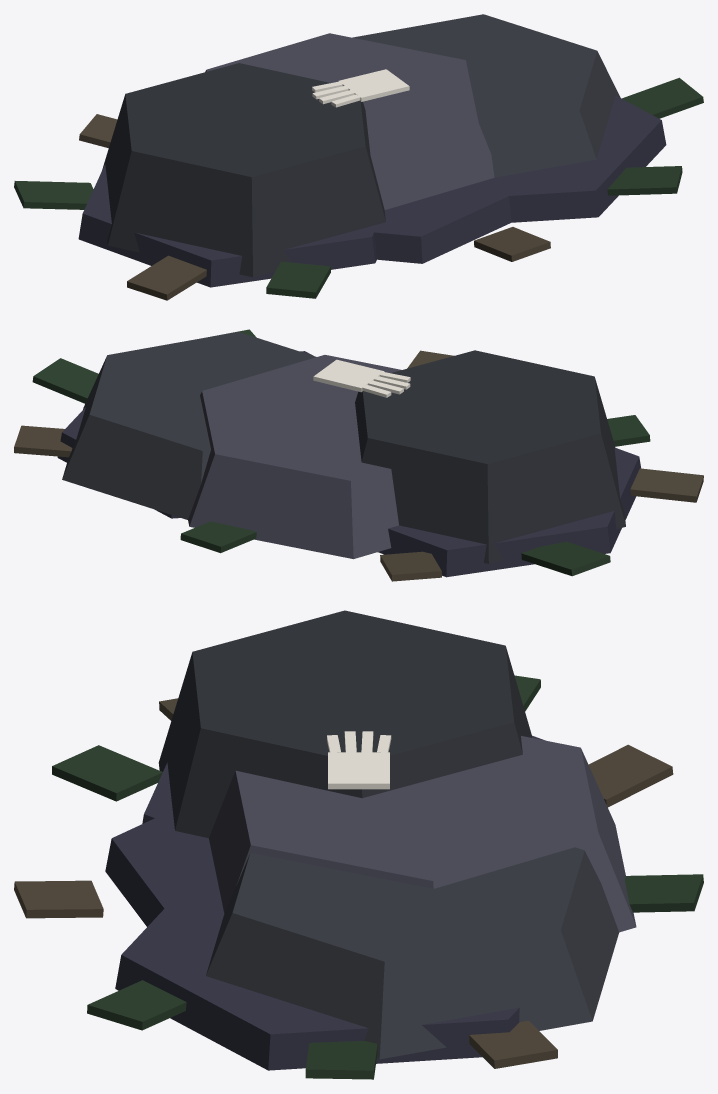
File: teeth_mark.glb
3 renders of one model, top to bottom at view 1: azimuth 30°, elevation 25°; view 2: azimuth 150°, elevation 25°; view 3: azimuth 270°, elevation 25°, orthographic. The views are drawn at different scales.
Parts seen in each view (by area): view 1: slate_d55, ink_l12, slate_d45, ink_l22, moss_d55, driftwood_d60, bone_l35; view 2: slate_d55, ink_l22, slate_d45, ink_l12, moss_d55, driftwood_d60, bone_l35; view 3: slate_d45, slate_d55, ink_l22, ink_l12, moss_d55, driftwood_d60, bone_l35.
Part boxes in pixels (x1,y1,x2,y2): slate_d55: (102,63,385,277); ink_l12: (78,96,666,287); slate_d45: (352,14,620,177); ink_l22: (205,33,494,209); moss_d55: (14,77,703,298); driftwood_d60: (79,114,550,300); bone_l35: (312,69,409,107); slate_d55: (355,350,625,563); ink_l22: (188,355,401,559); slate_d45: (62,332,316,519); ink_l12: (57,351,641,577); moss_d55: (32,329,650,576); driftwood_d60: (14,350,703,581); bone_l35: (313,359,410,397); slate_d45: (206,847,619,1059); slate_d55: (158,610,531,838); ink_l22: (209,736,636,932); ink_l12: (105,735,545,1070); moss_d55: (52,675,703,1079); driftwood_d60: (14,698,673,1068); bone_l35: (327,731,391,789).
Bounding box in the file's own units: 3.08 × 0.475 × 2.22.
